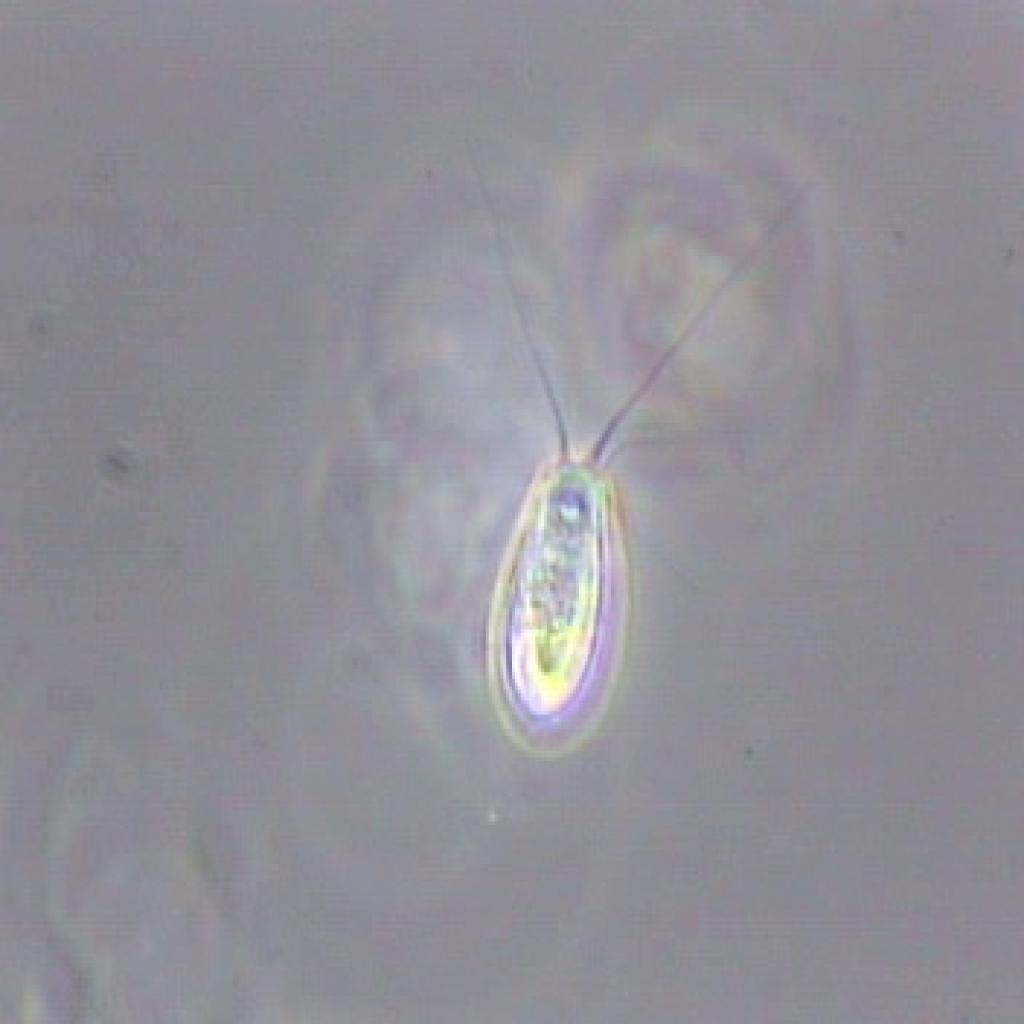Euglypha: (473, 284, 708, 768)
